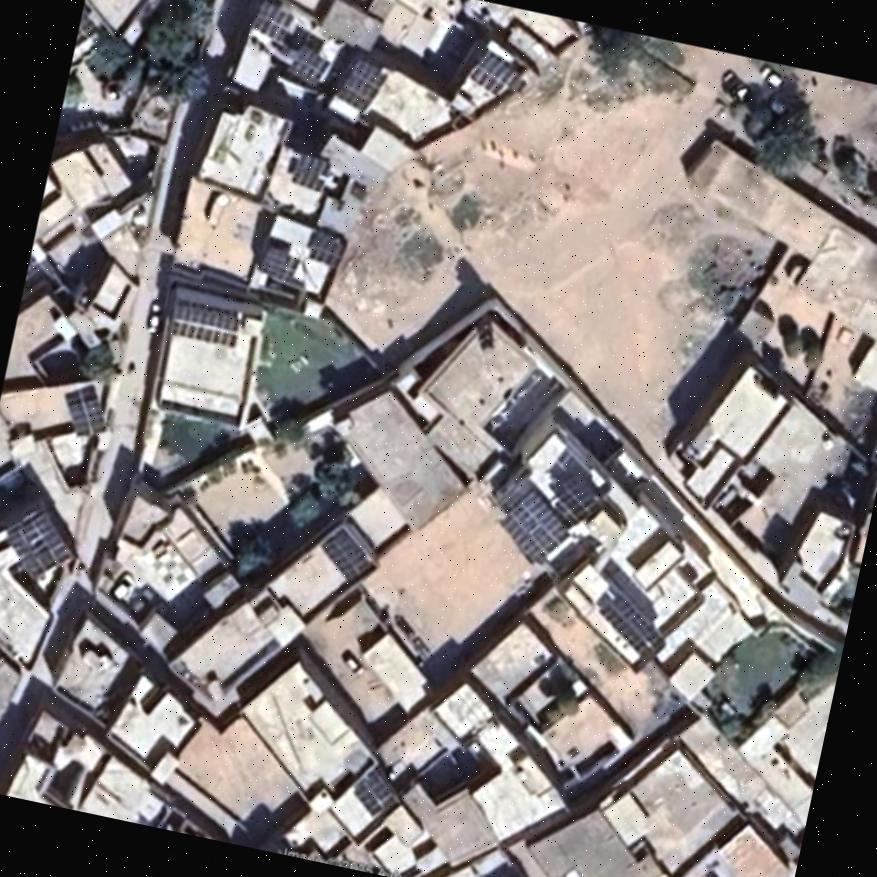Solarpanel: (497, 491, 568, 559), (5, 514, 71, 580), (599, 594, 660, 652), (322, 527, 374, 581), (334, 59, 386, 110), (467, 51, 514, 95), (352, 773, 398, 814), (173, 304, 238, 330), (251, 0, 294, 38), (283, 46, 327, 80), (306, 227, 342, 268), (67, 397, 106, 433), (293, 152, 330, 189), (260, 247, 300, 278)
